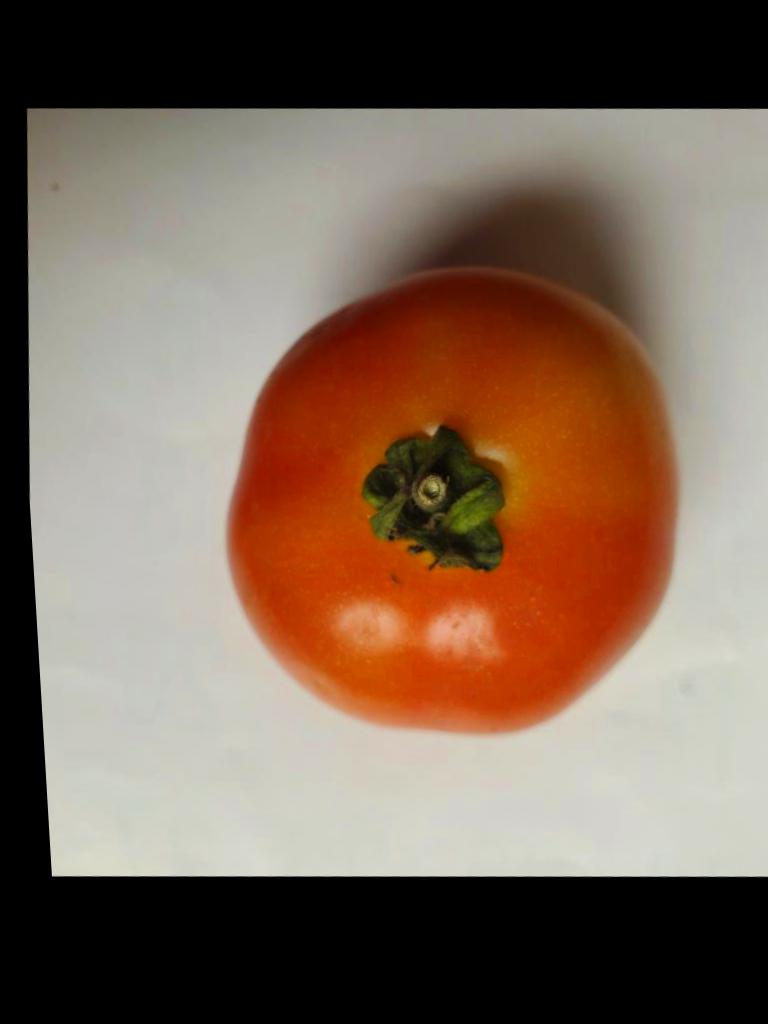tomato: (230, 268, 677, 731)
